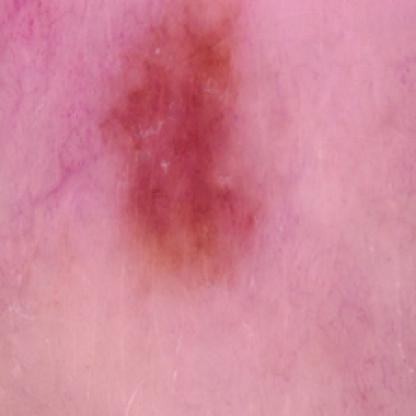benign: (106, 2, 260, 269)
